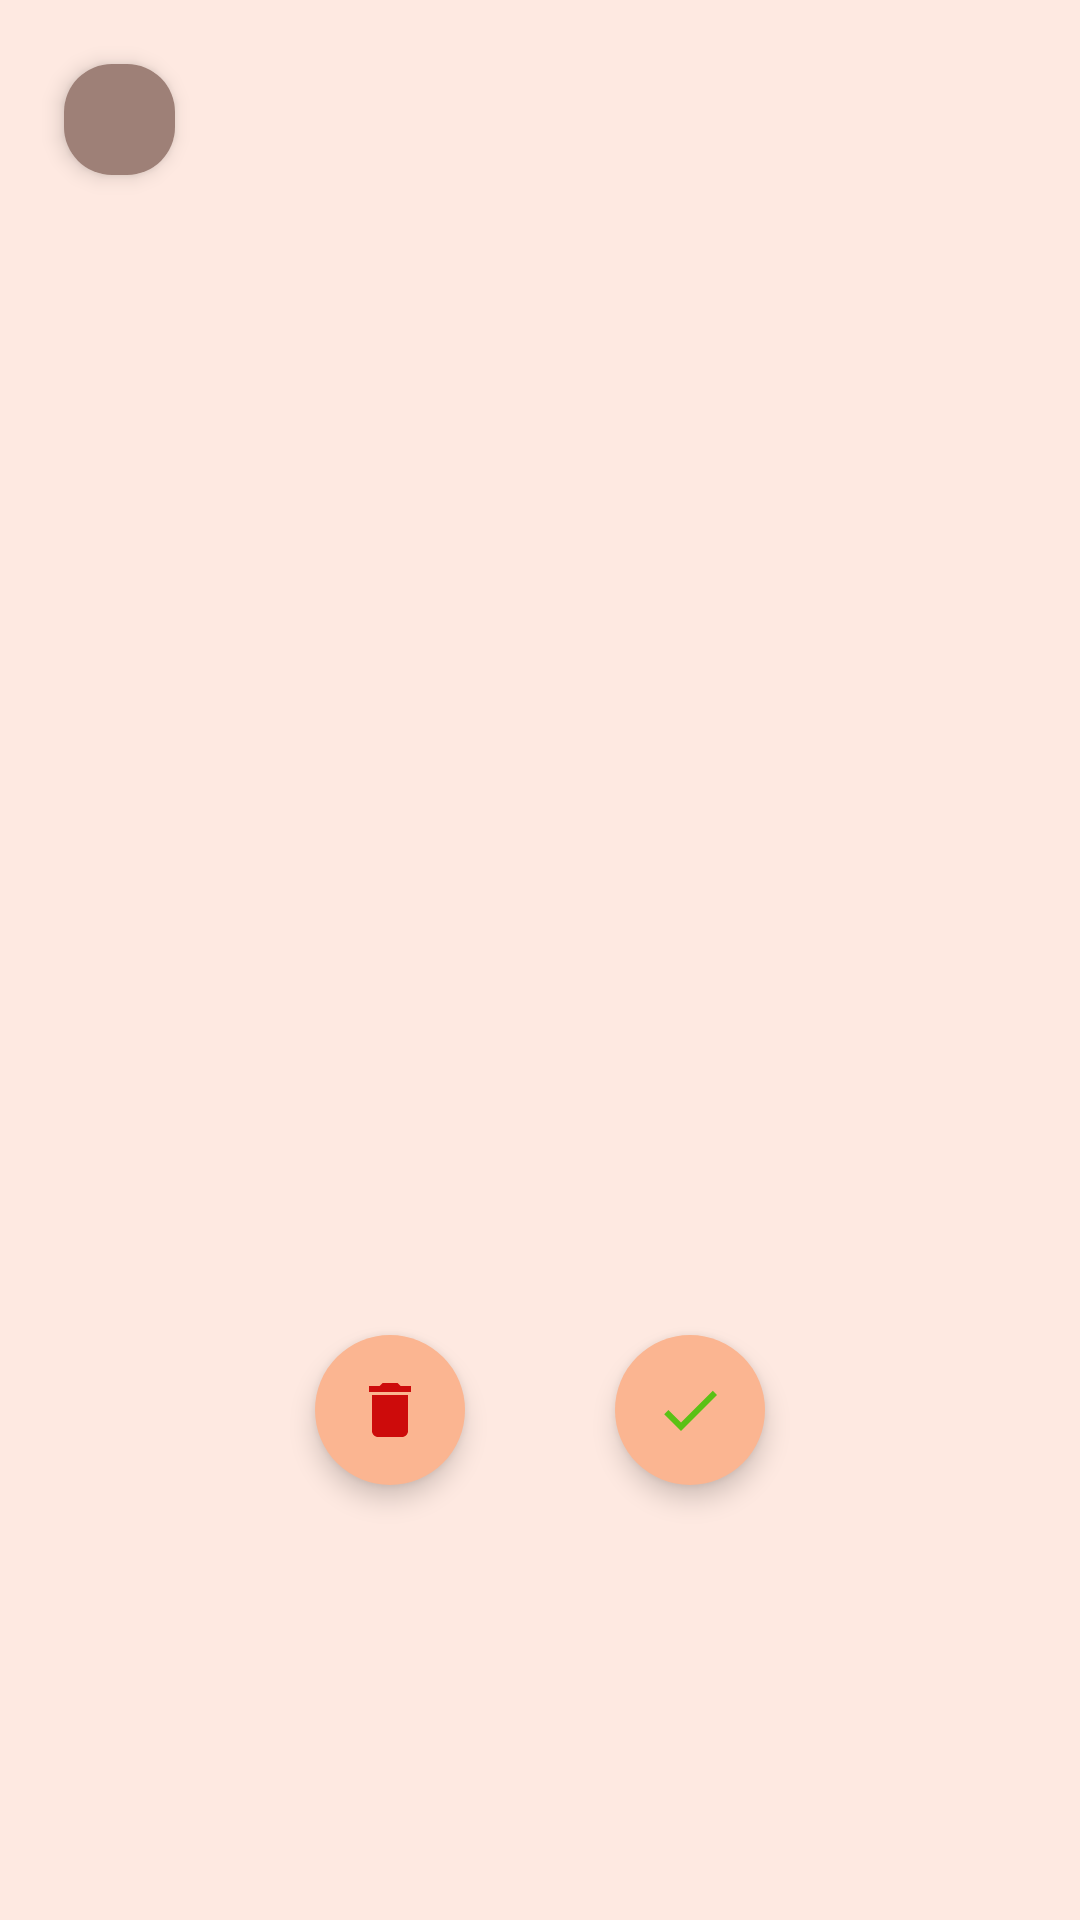

Icon click points for this 1080w x 1920h phone screenshot, format point (x, y):
Delete image: point (390, 1410)
done: point (690, 1410)
